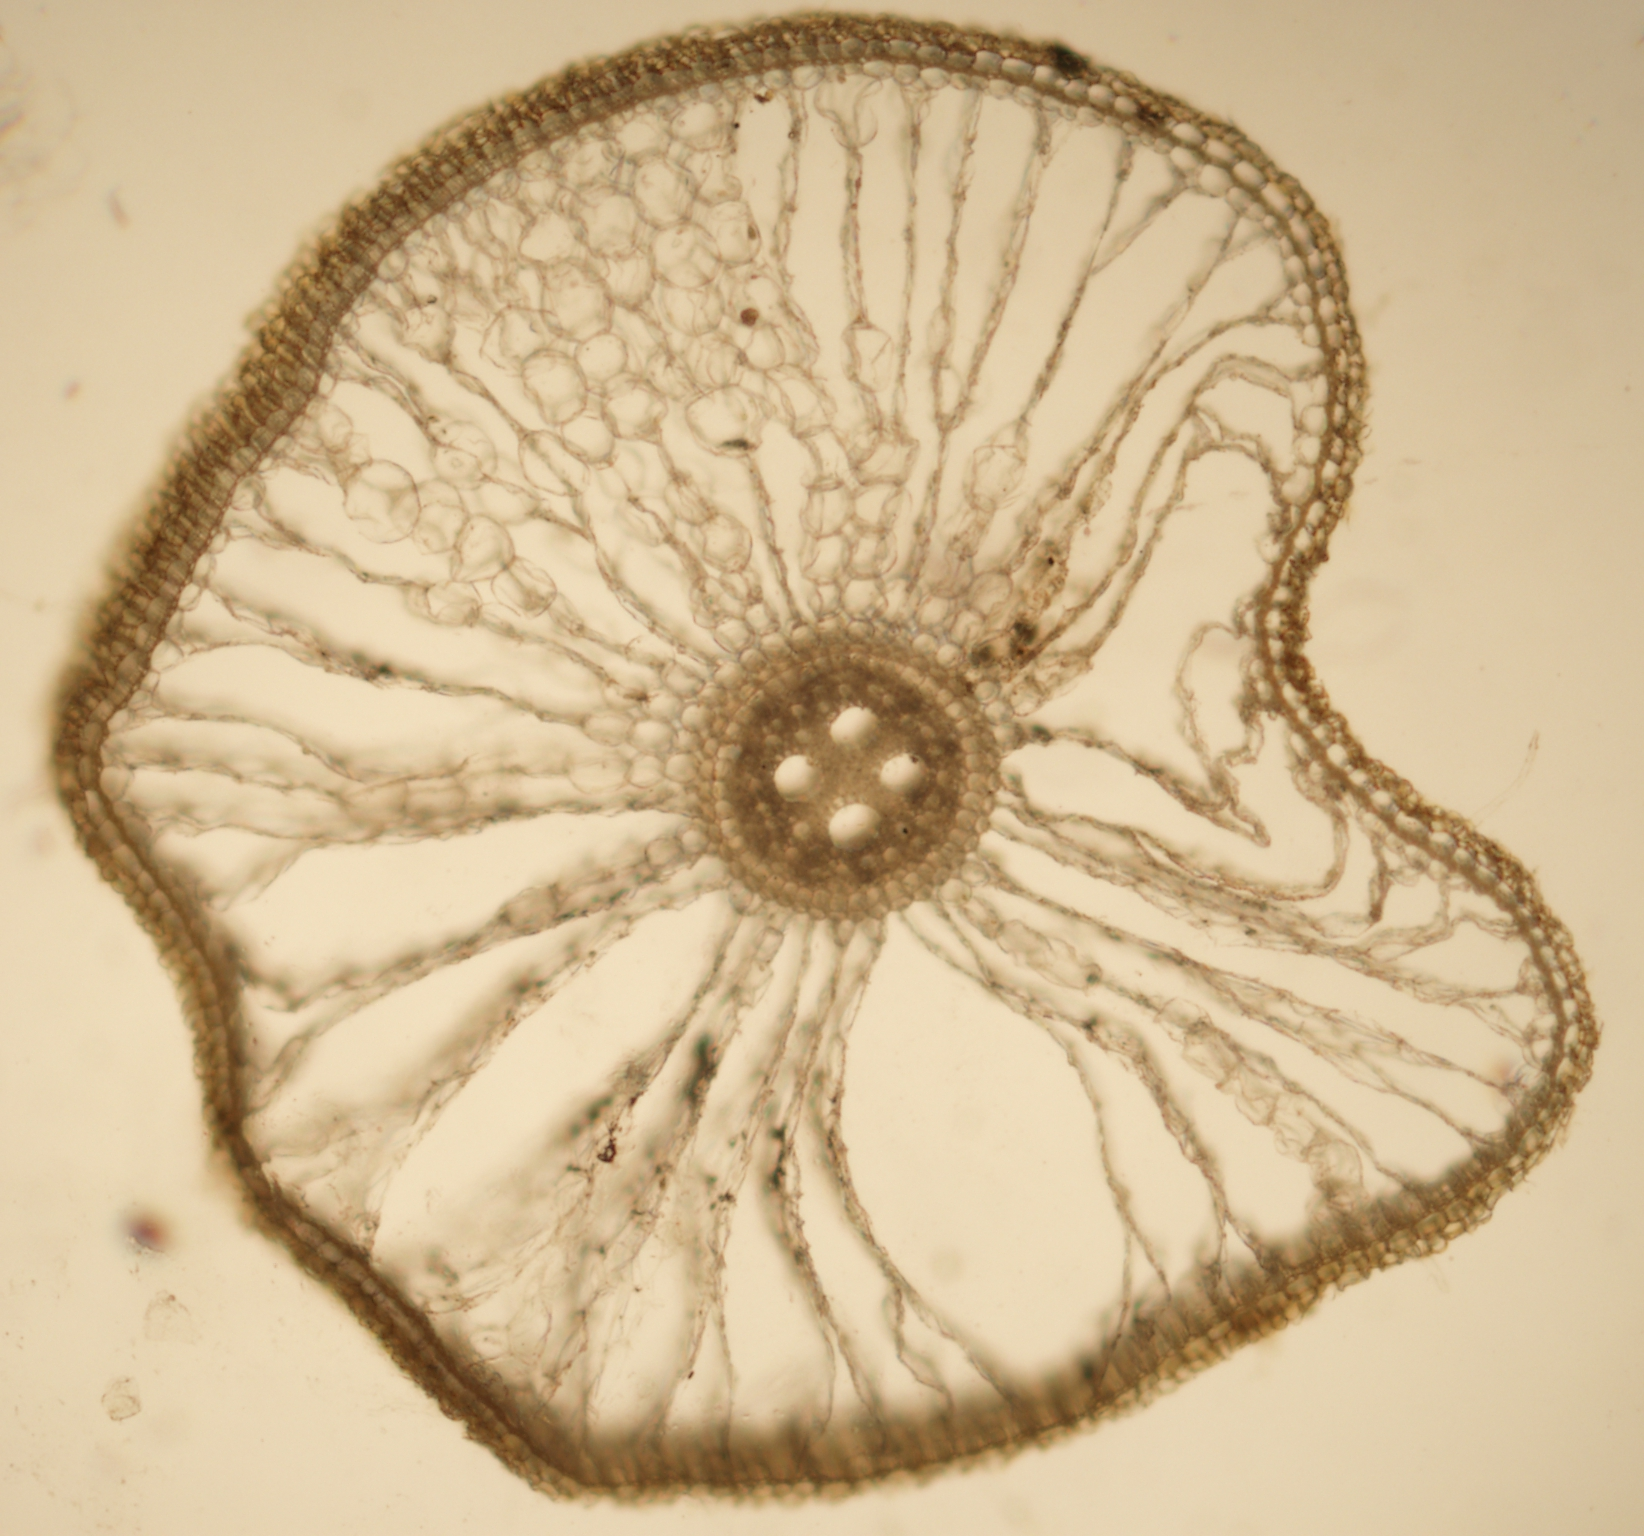lm: (774, 754, 826, 803), (828, 803, 880, 850), (830, 706, 880, 754), (880, 752, 930, 797)
